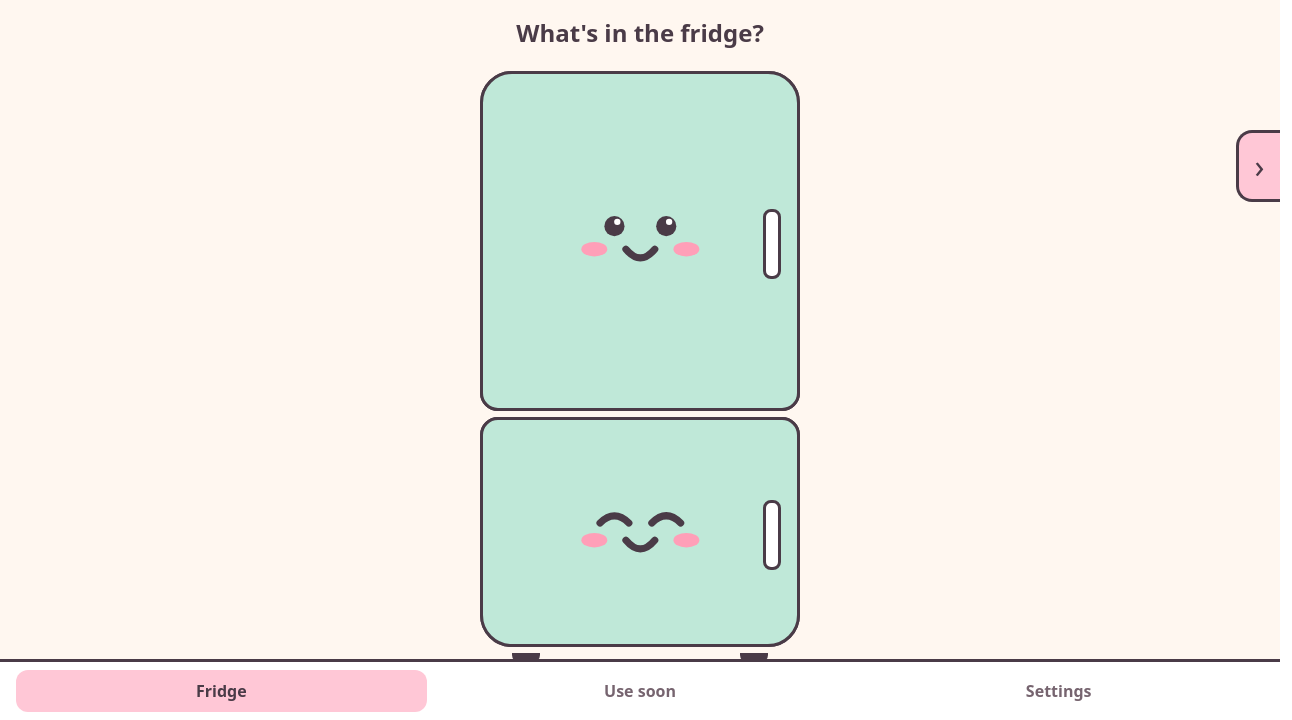
Test: App › loads a version 1 save without dropping the item
Click the button named "Open the fridge". click: [640, 241]
box: [480,71,800,411]
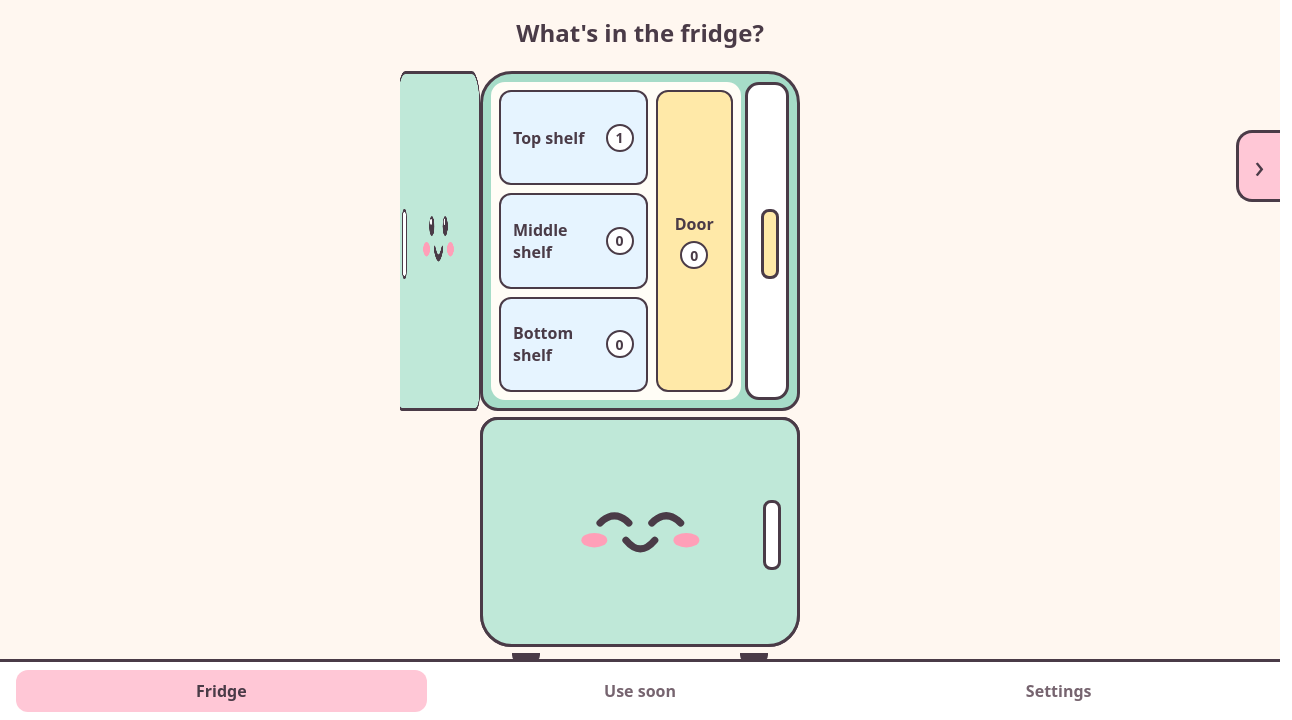
Check: the button with aria-label "Top shelf, 1 item" is shown, box [499,90,648,185]
